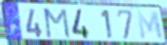1: (101, 9, 114, 41)
4: (71, 8, 92, 40), (25, 7, 44, 39)
7: (116, 9, 134, 41)
M: (43, 8, 72, 40), (135, 10, 164, 41)
